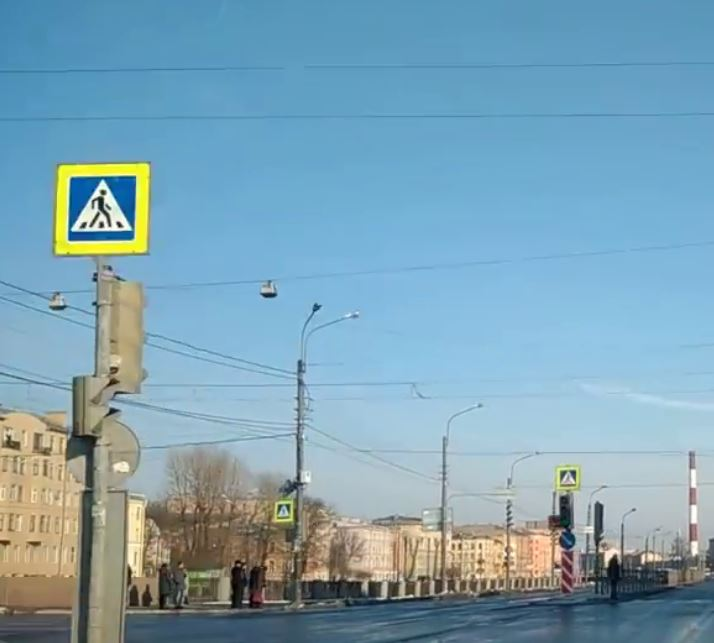Yaya Gecidi: (67, 177, 133, 241)
